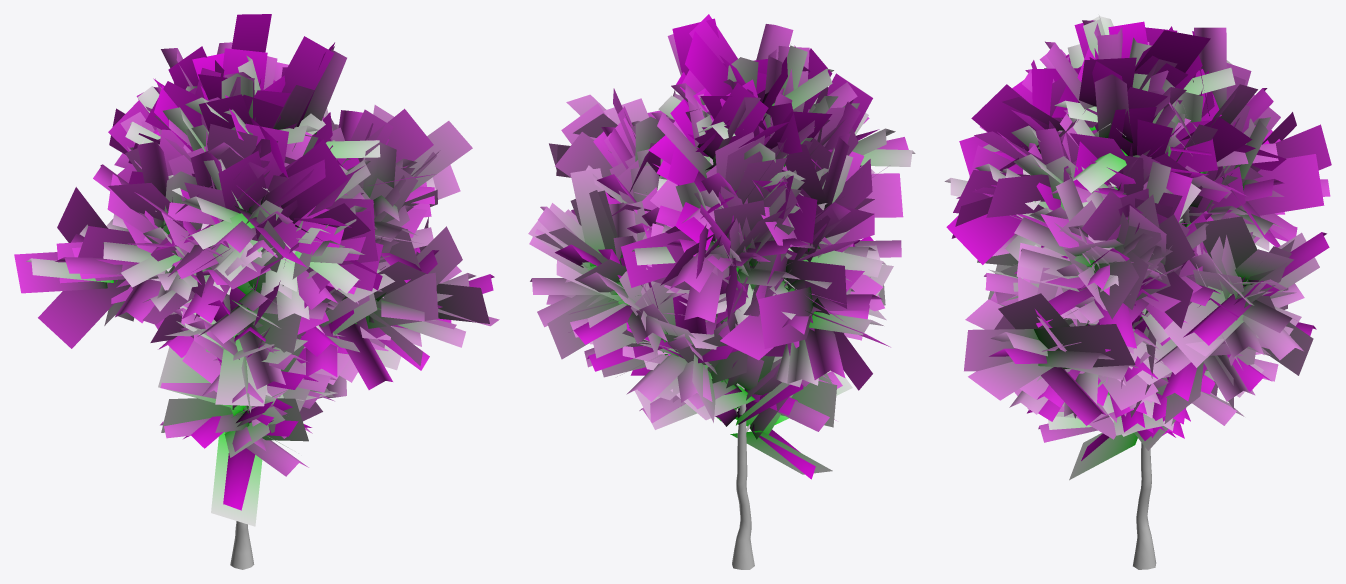
File: rowan_09.fbx
3 views of the same model, side by side, from view 1: azimuth 30°, elevation 25°; view 2: azimuth 150°, elevation 25°; view 3: azimuth 270°, elevation 25° (orthographic). The views are drawn at different scales.
Visible parts, largest first — view 1: rowan_leaves_09_shadow, rowan_leaves_09_lod0, rowan_tree_09_lod0; view 2: rowan_leaves_09_shadow, rowan_leaves_09_lod0, rowan_tree_09_lod0; view 3: rowan_leaves_09_shadow, rowan_leaves_09_lod0, rowan_tree_09_lod0.
Part boxes in pixels (x1=…): rowan_leaves_09_shadow: x1=14, y1=14, x2=499, y2=526; rowan_leaves_09_lod0: x1=26, y1=42, x2=494, y2=510; rowan_tree_09_lod0: x1=230, y1=283, x2=254, y2=569; rowan_leaves_09_shadow: x1=528, y1=14, x2=903, y2=474; rowan_leaves_09_lod0: x1=529, y1=24, x2=915, y2=479; rowan_tree_09_lod0: x1=732, y1=279, x2=796, y2=569; rowan_leaves_09_shadow: x1=946, y1=20, x2=1331, y2=480; rowan_leaves_09_lod0: x1=944, y1=15, x2=1330, y2=460; rowan_tree_09_lod0: x1=1133, y1=218, x2=1247, y2=569.
Size of what is drawn, in the model's own units: 6.36 by 8.37 by 5.3.
